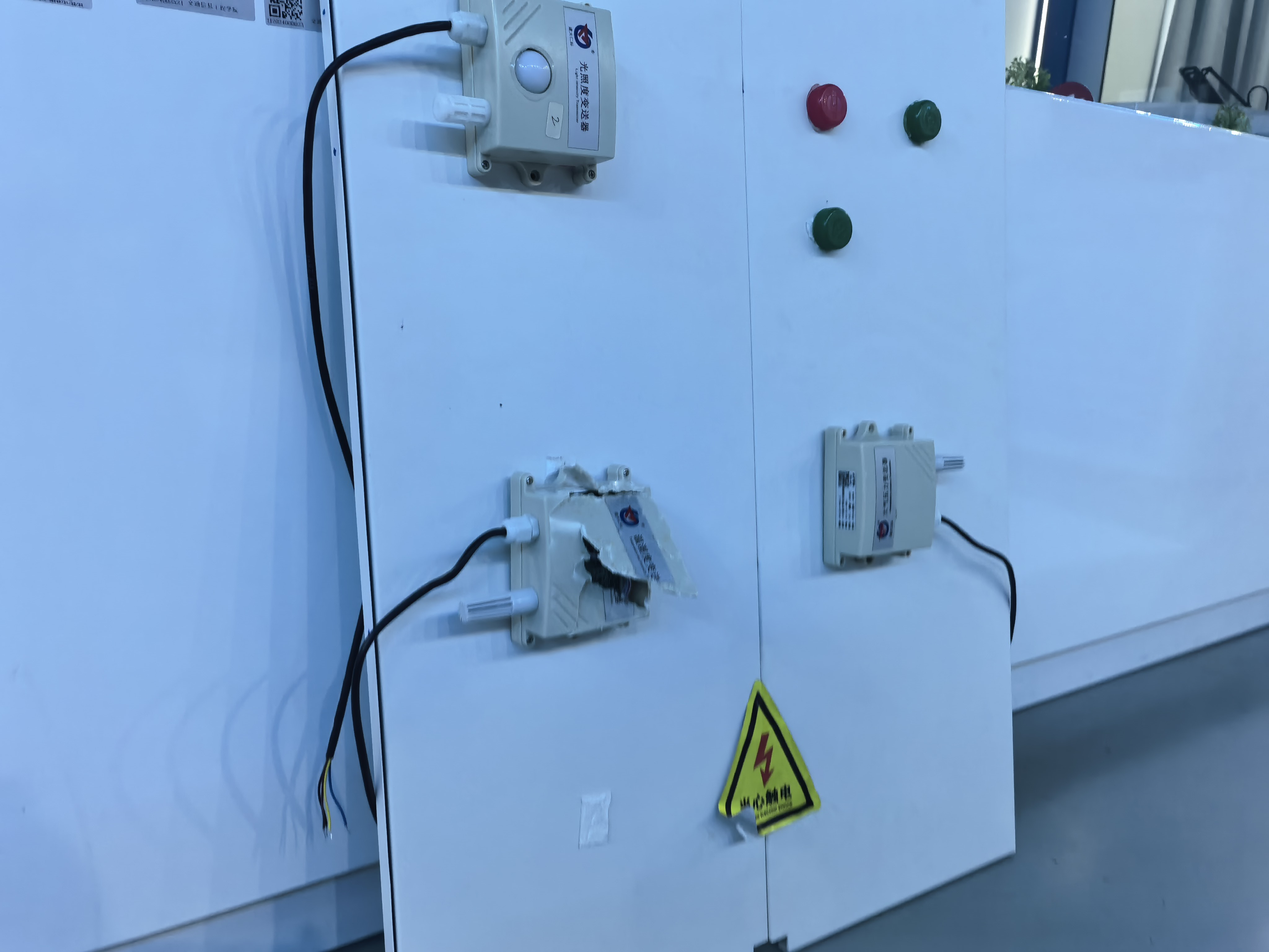red_warning: (788, 59, 854, 140)
sensor_damage: (442, 427, 725, 685)
